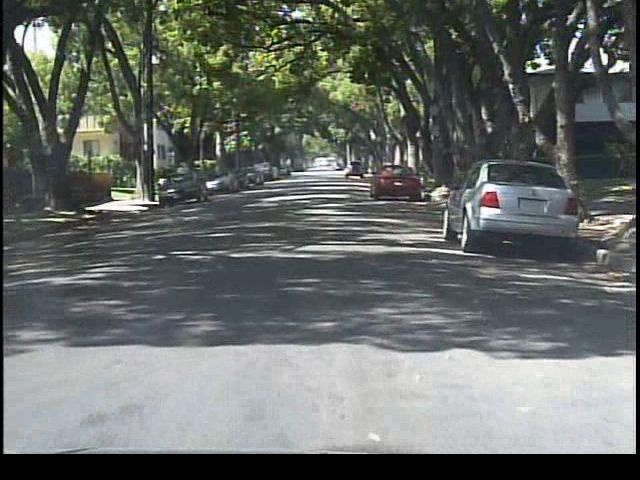person: (173, 163, 192, 197)
